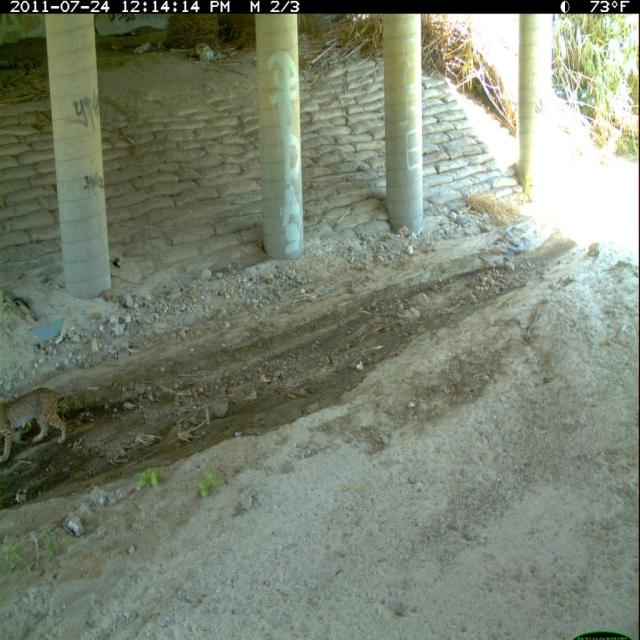bobcat: (1, 382, 70, 466)
